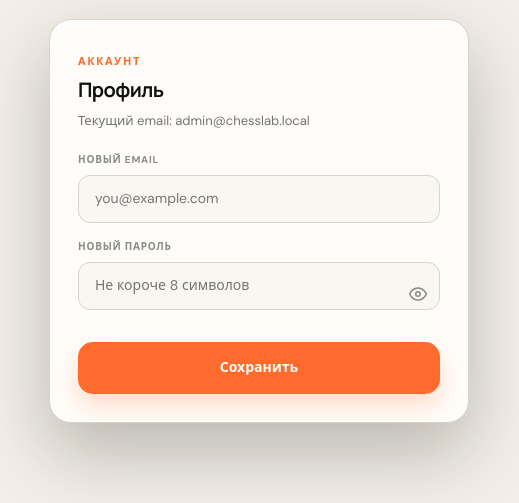
Test: ProfileView › shows the retry notice instead of an error when a code was already sent recently
Check: the text "Текущий email: admin@chesslab.local" is shown, box [78,112,310,129]
Type "new@chesslab.local" into the field labelled "Новый email".
click(259, 199); type("new@chesslab.local")  # box [78,175,440,223]
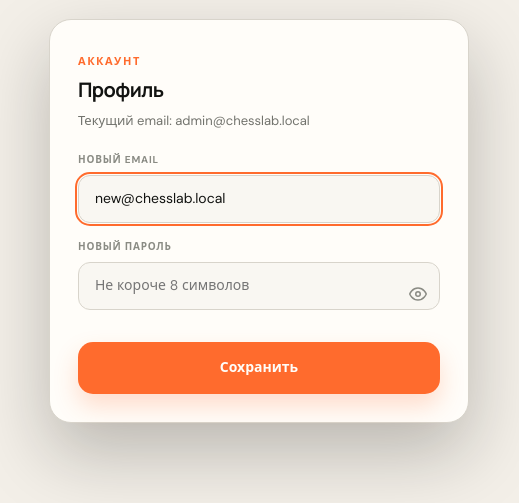
Type "brand-new-pass" into the password field labelled "Новый пароль".
click(259, 286); type("brand-new-pass")  # box [78,262,440,310]
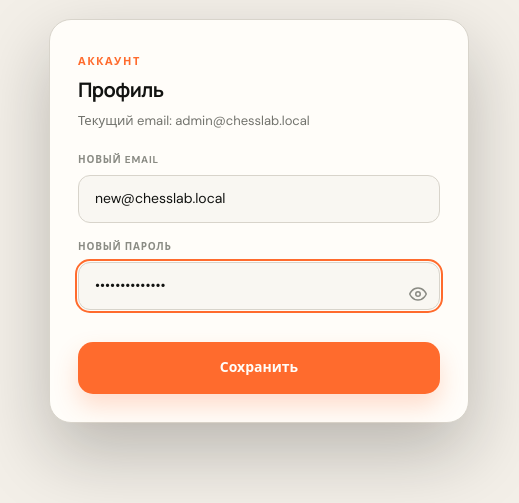
Click the button "Сохранить".
click(259, 368)  # box [78,342,440,394]
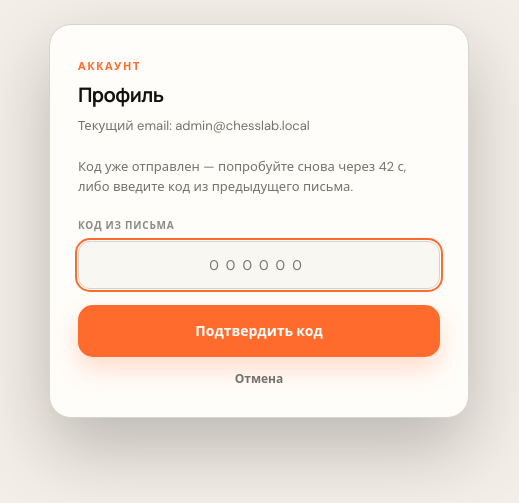
Check: the text "Код уже отправлен — попробуйте снова через 42 с, либо введите код из предыдущего письма." is shown, box [78,158,406,195]
